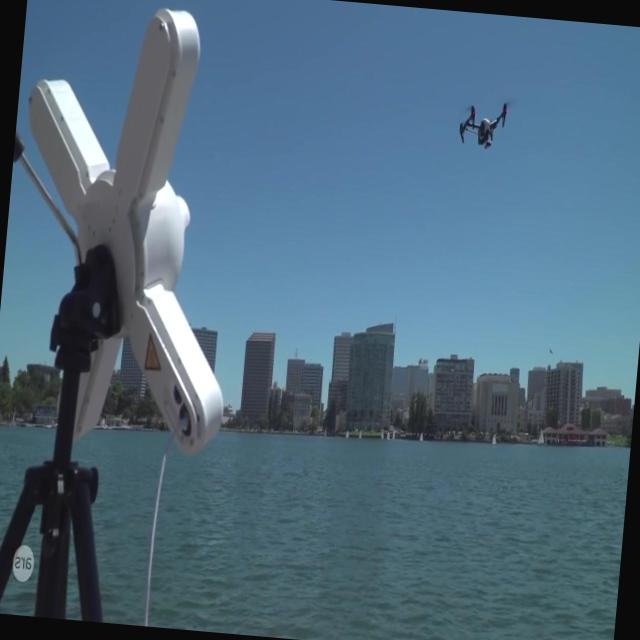drone: (456, 94, 510, 153)
